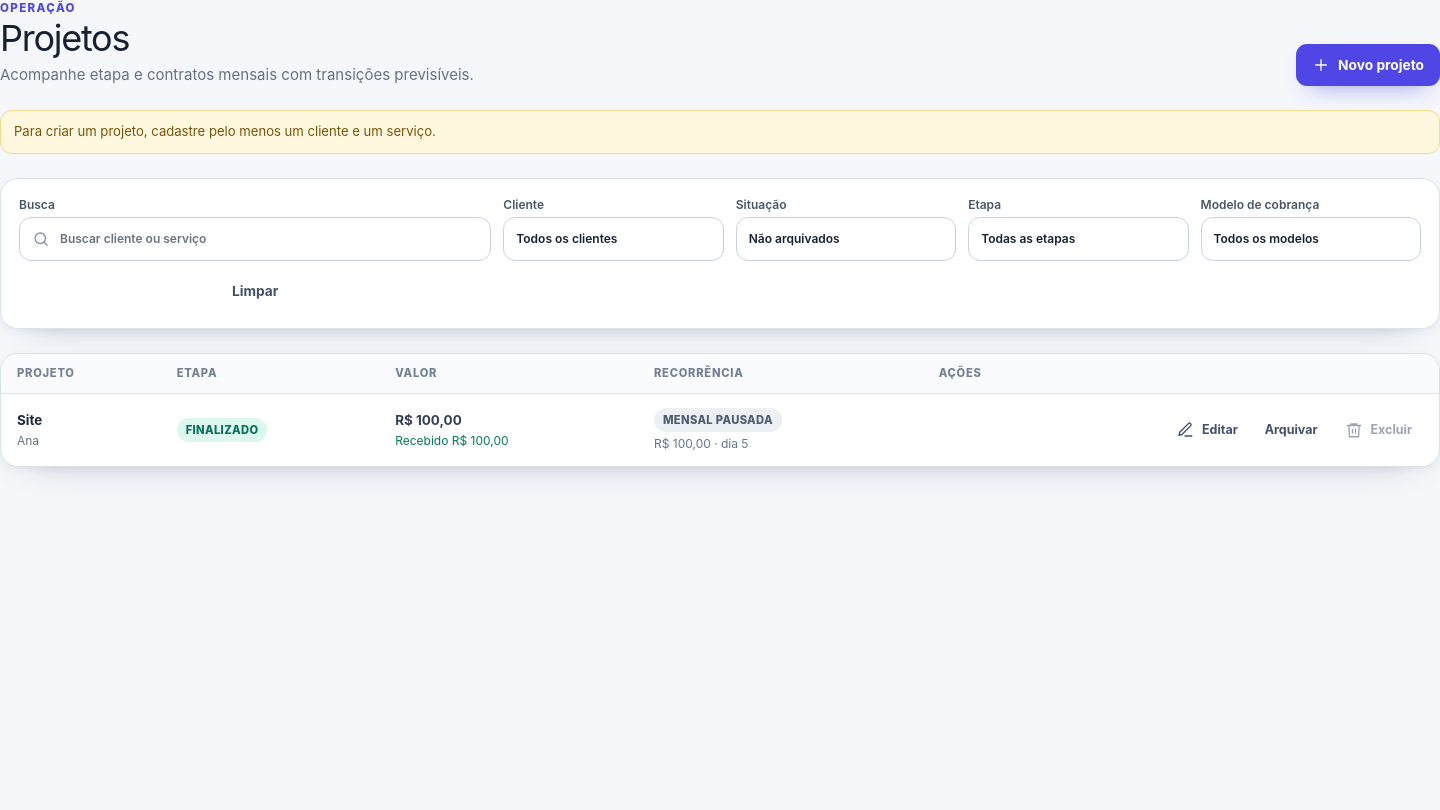
Test: arquiva com confirmação, mantém exclusão nos dois layouts e não retoma finalizados
Check: the button "Excluir" is disabled, box [1334,412,1423,447]
Click the button "Arquivar" at [1291, 430], box [1254,412,1328,447]
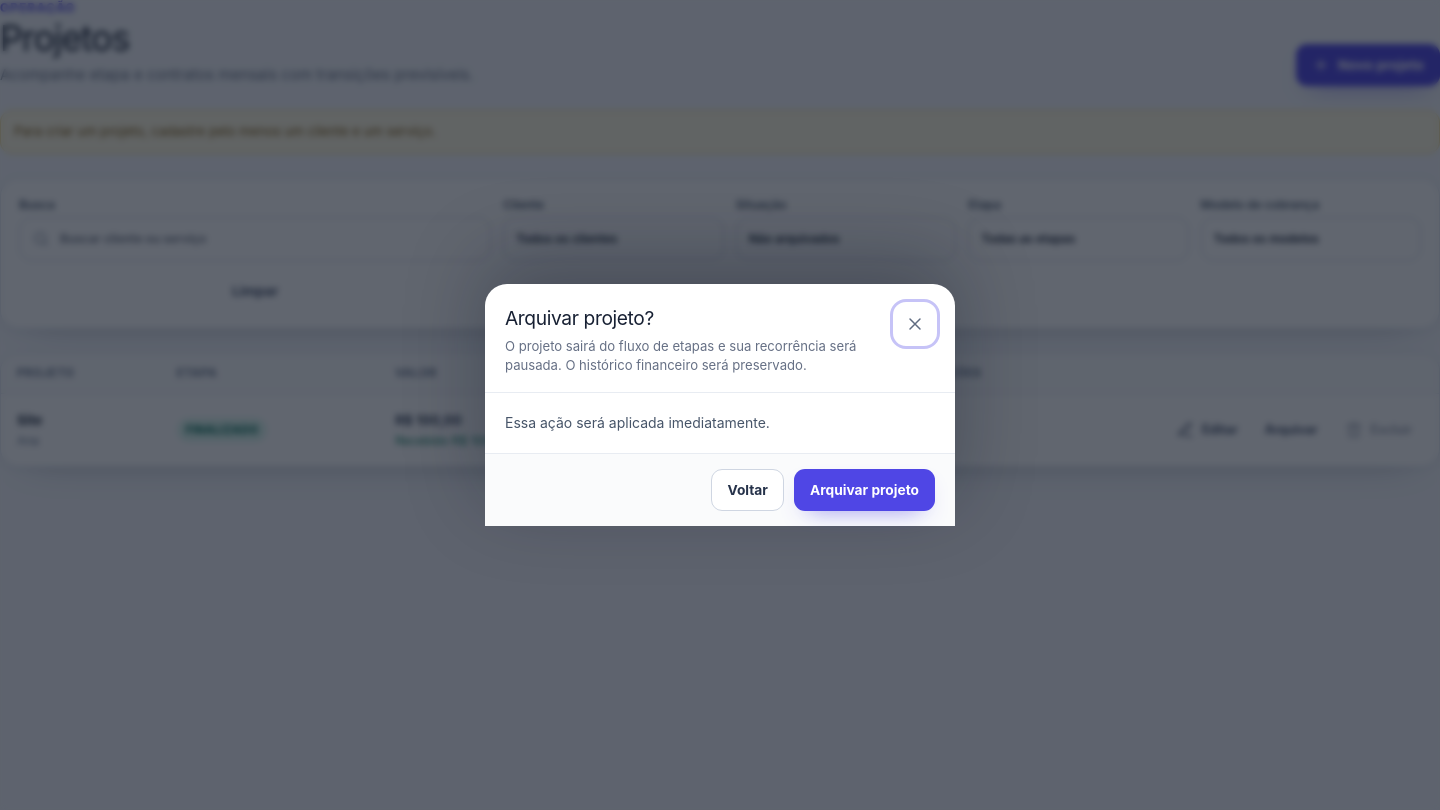
Click the button "Arquivar projeto" at [864, 490], box [794,469,935,511]
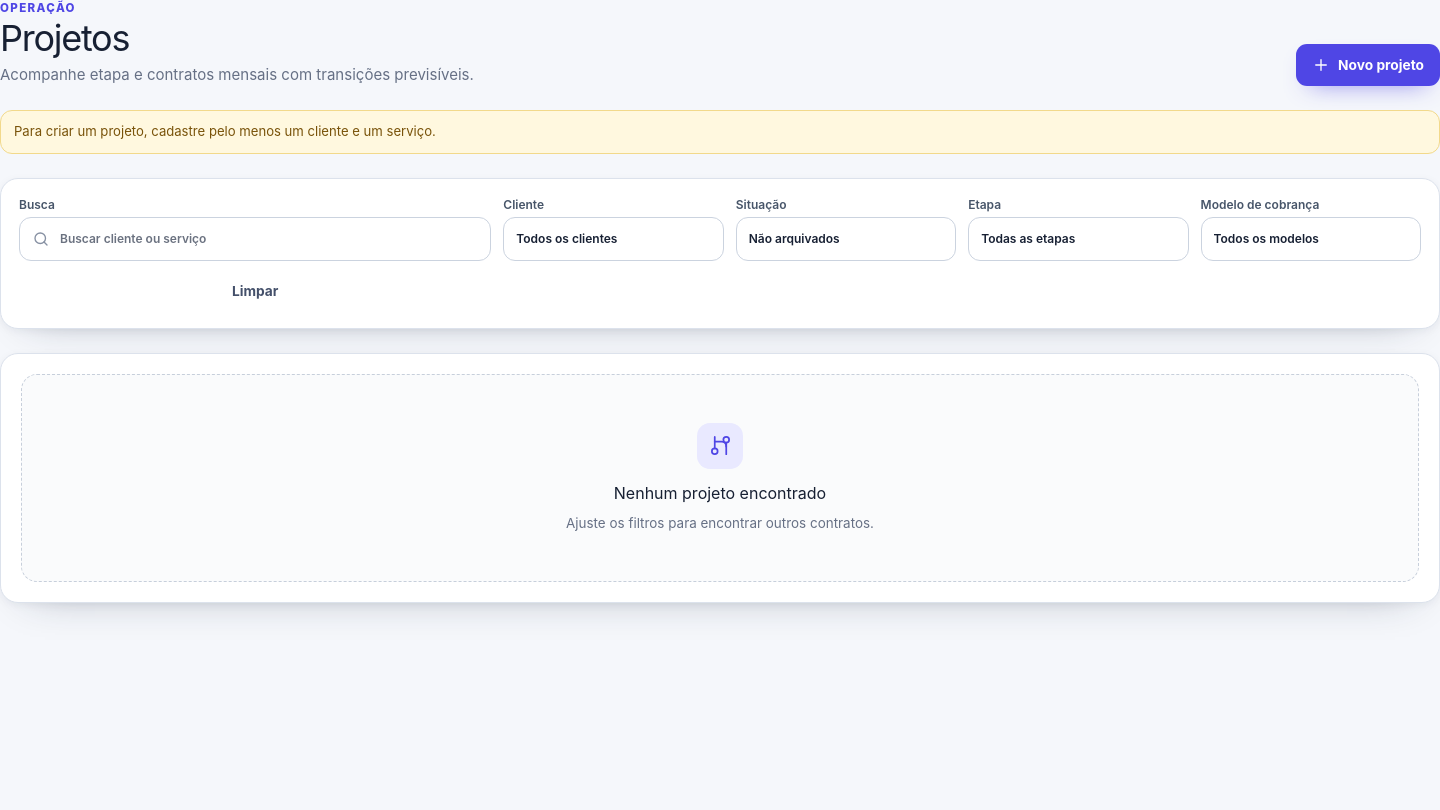
Select "Arquivados" in the dropdown named "Situação do projeto" at [846, 239], box [736,217,956,261]
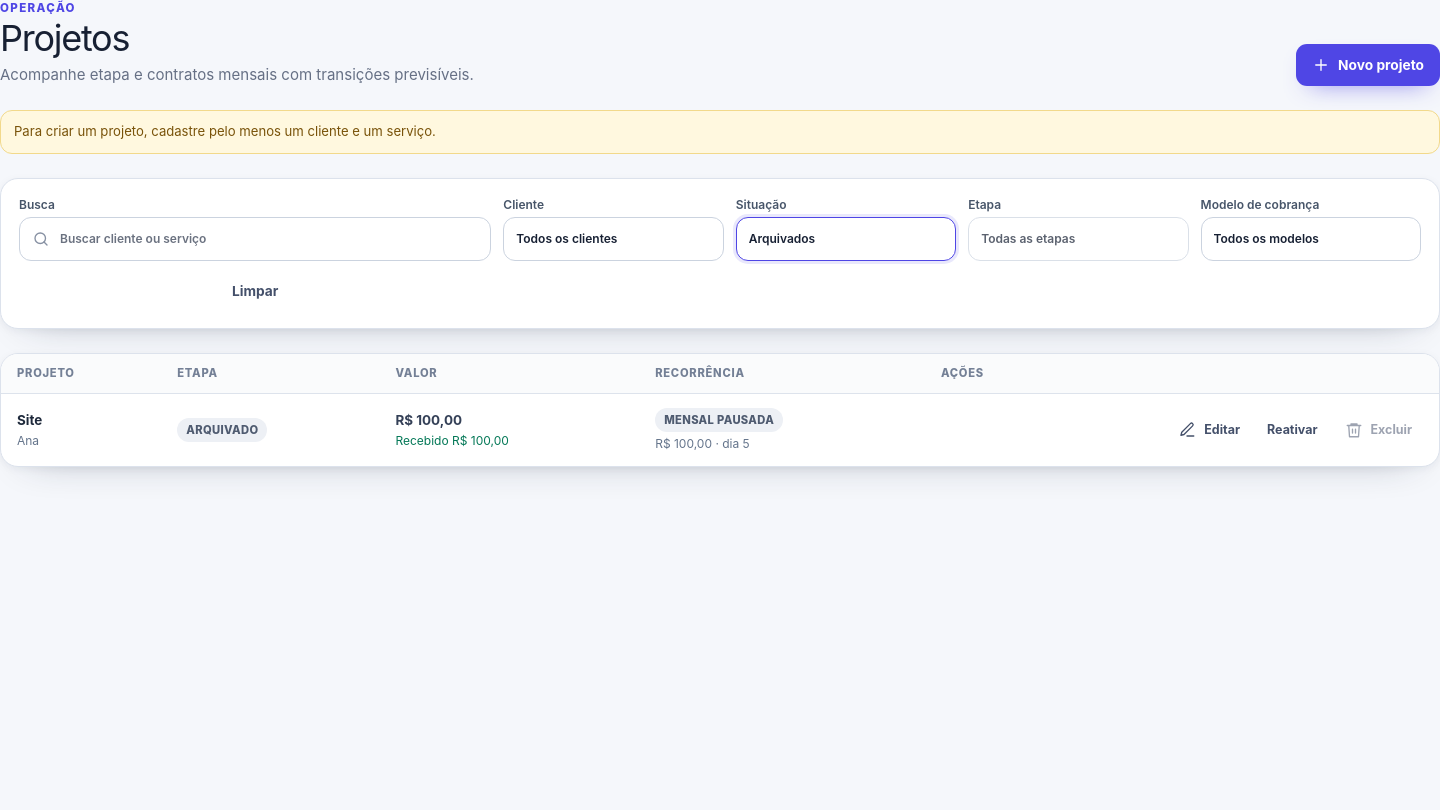
Check: the text "Arquivado" is shown 2 times
Check: the number of buttons "Reativar" is 2
Select "Todos" in the dropdown named "Situação do projeto" at [846, 239], box [736,217,956,261]
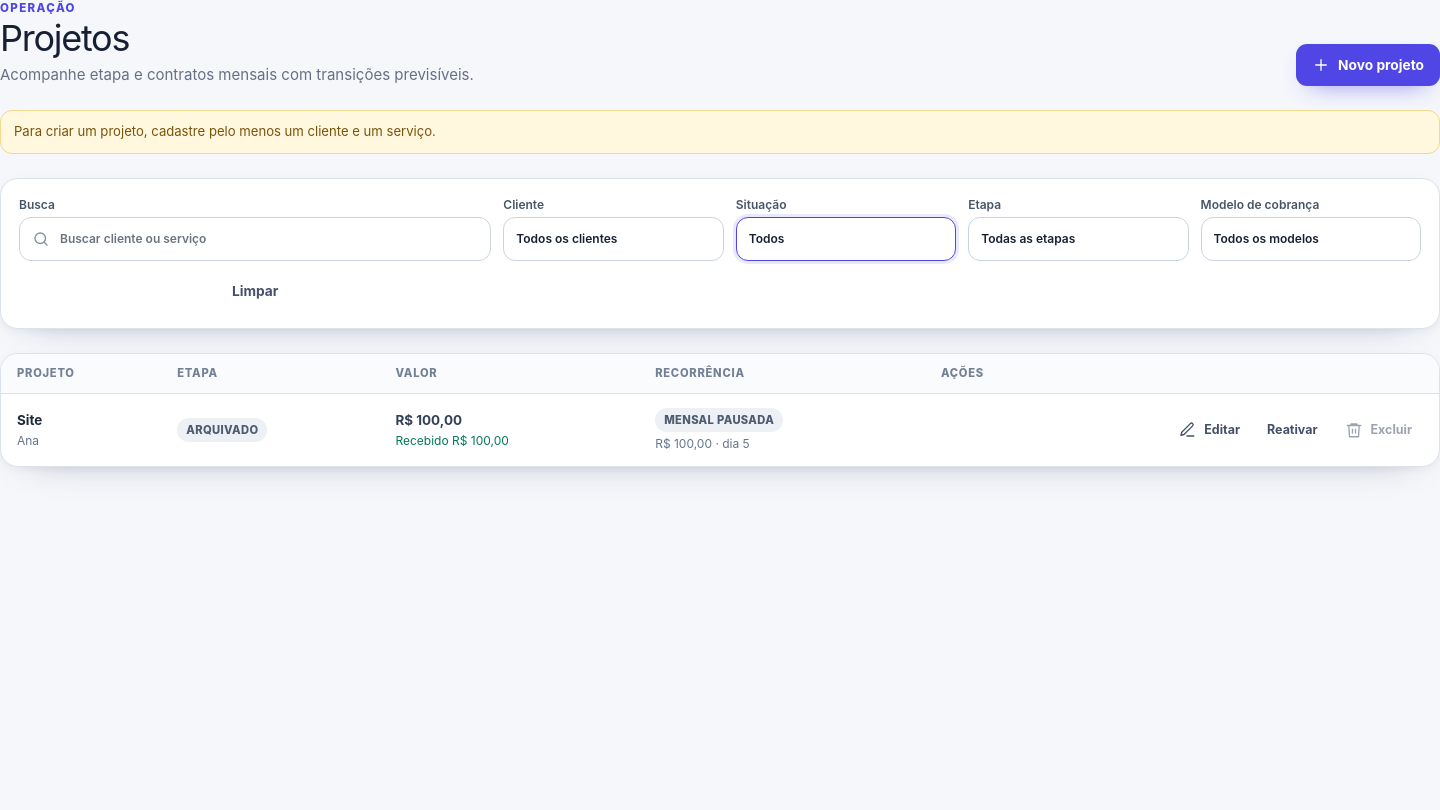
Check: the number of buttons "Reativar" is 2
Check: the dropdown named "Filtrar etapa" is enabled, box [968,217,1189,261]
